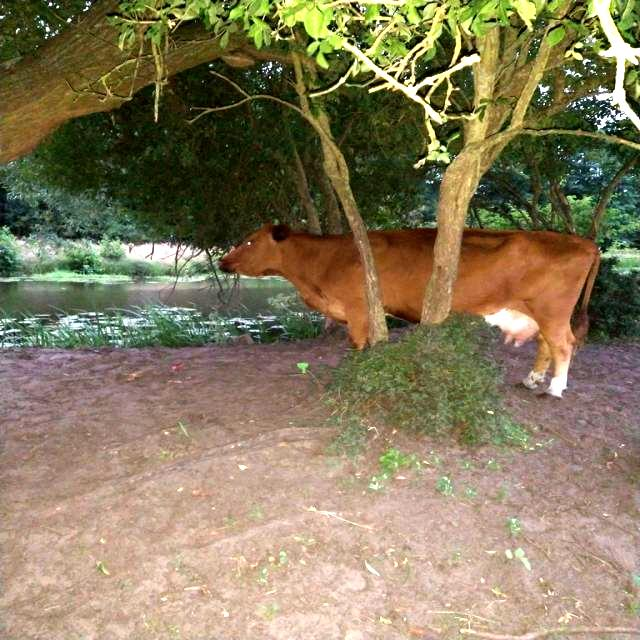COW: (452, 230, 600, 396), (220, 225, 368, 348), (369, 231, 435, 322)
